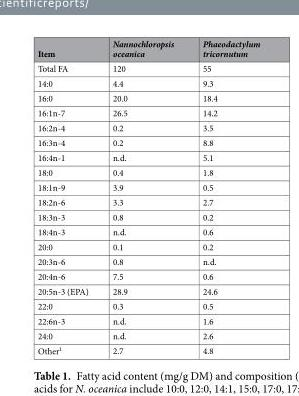table: (36, 37, 259, 356)
table column: (99, 37, 187, 356), (187, 37, 259, 356), (36, 37, 99, 356)
table column header: (36, 37, 259, 60)
table row: (36, 37, 259, 60), (36, 60, 259, 75), (36, 75, 259, 90), (36, 90, 259, 105), (36, 119, 259, 134), (36, 134, 259, 149), (36, 149, 259, 164), (36, 164, 259, 179), (36, 179, 259, 194), (36, 194, 259, 209), (36, 209, 259, 224), (36, 238, 259, 253), (36, 253, 259, 268), (36, 268, 259, 283), (36, 283, 259, 298), (36, 298, 259, 313), (36, 313, 259, 328), (36, 105, 259, 119), (36, 224, 259, 238), (36, 328, 259, 342), (36, 342, 259, 356)
